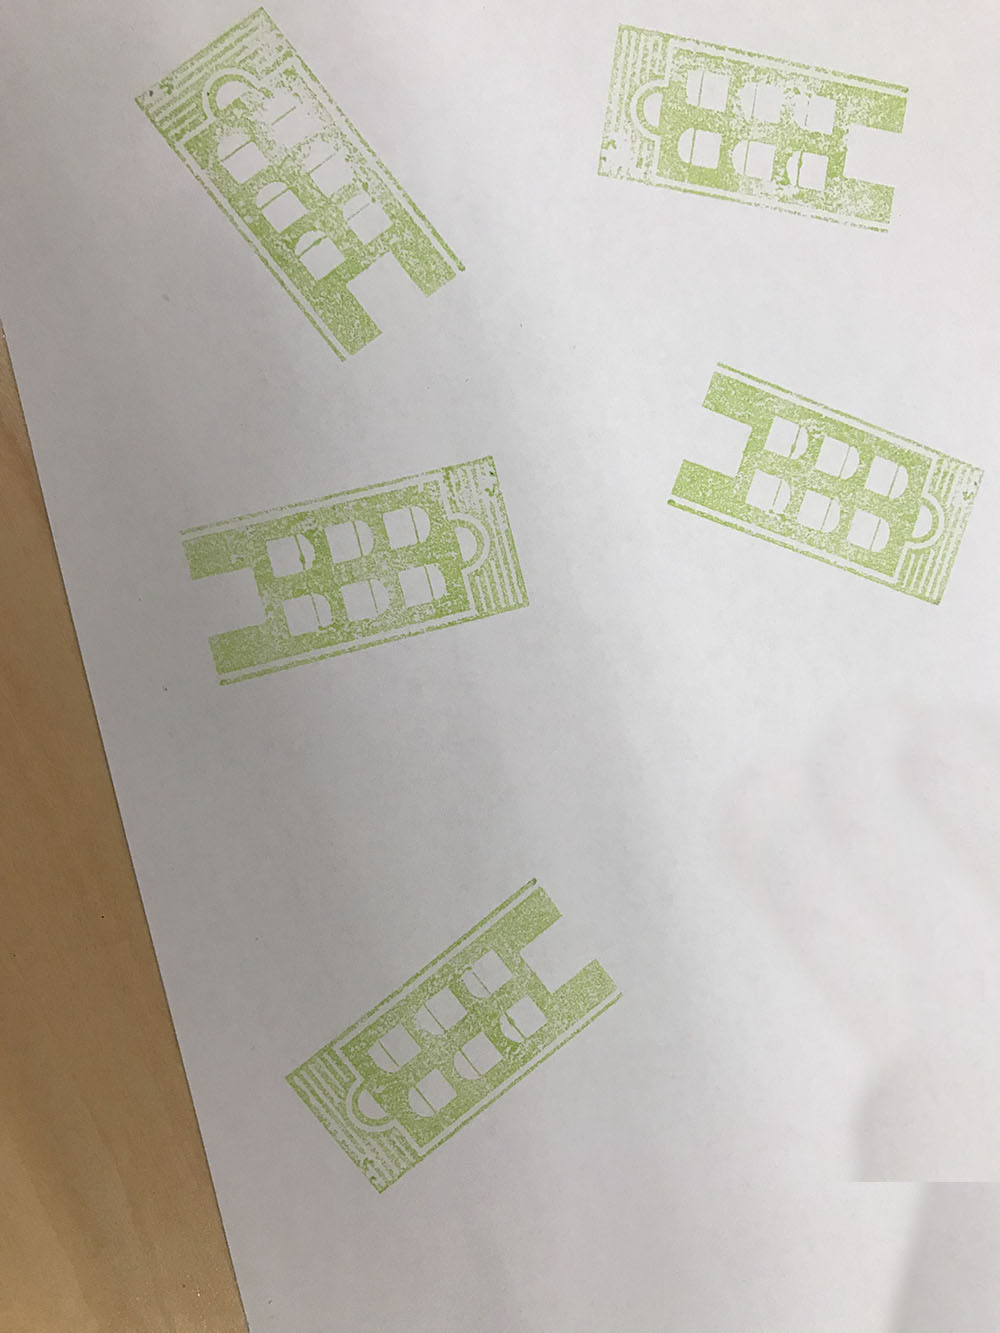build: (80, 1, 496, 372), (265, 876, 659, 1210), (150, 438, 560, 701), (643, 342, 992, 636), (556, 11, 942, 263)
